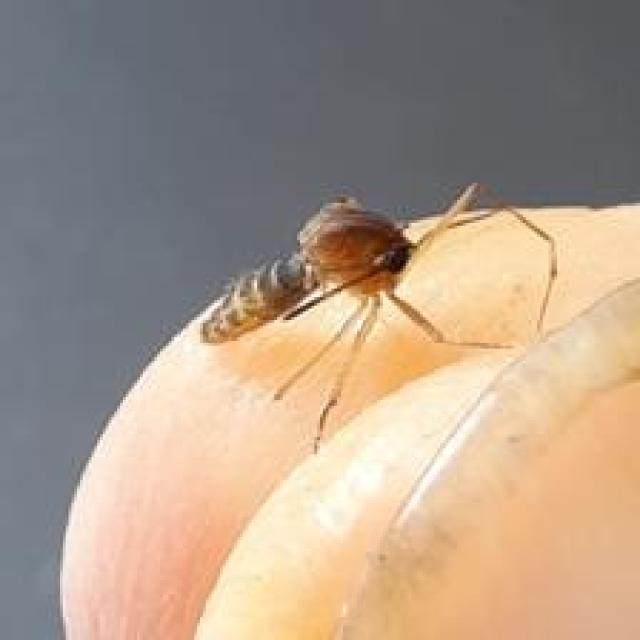Culex: (198, 178, 558, 456)
